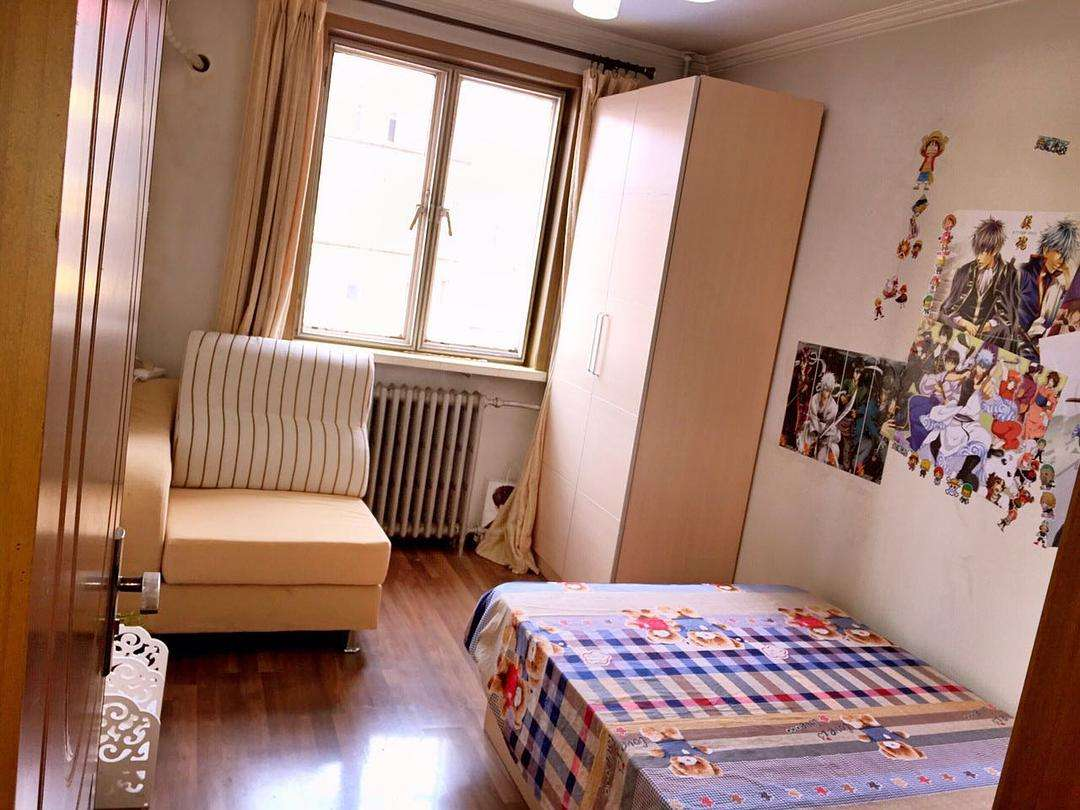bill: (893, 209, 1080, 551), (774, 335, 903, 489)
